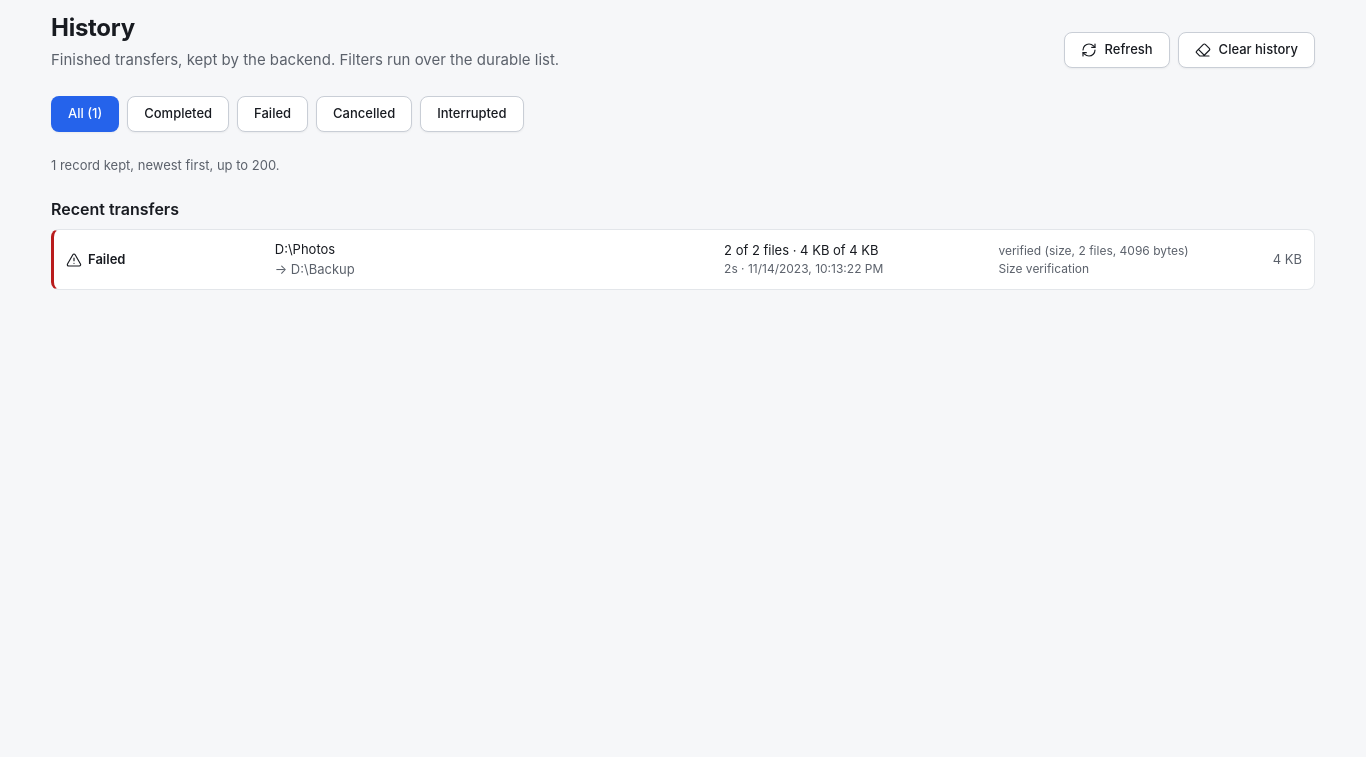
Test: HistoryPage › shows the items a failed transfer reported
The width and height of the screenshot is (1366, 757).
Click the button "Failed" at (107, 259), box [51,229,1315,290]
(page scrolled)
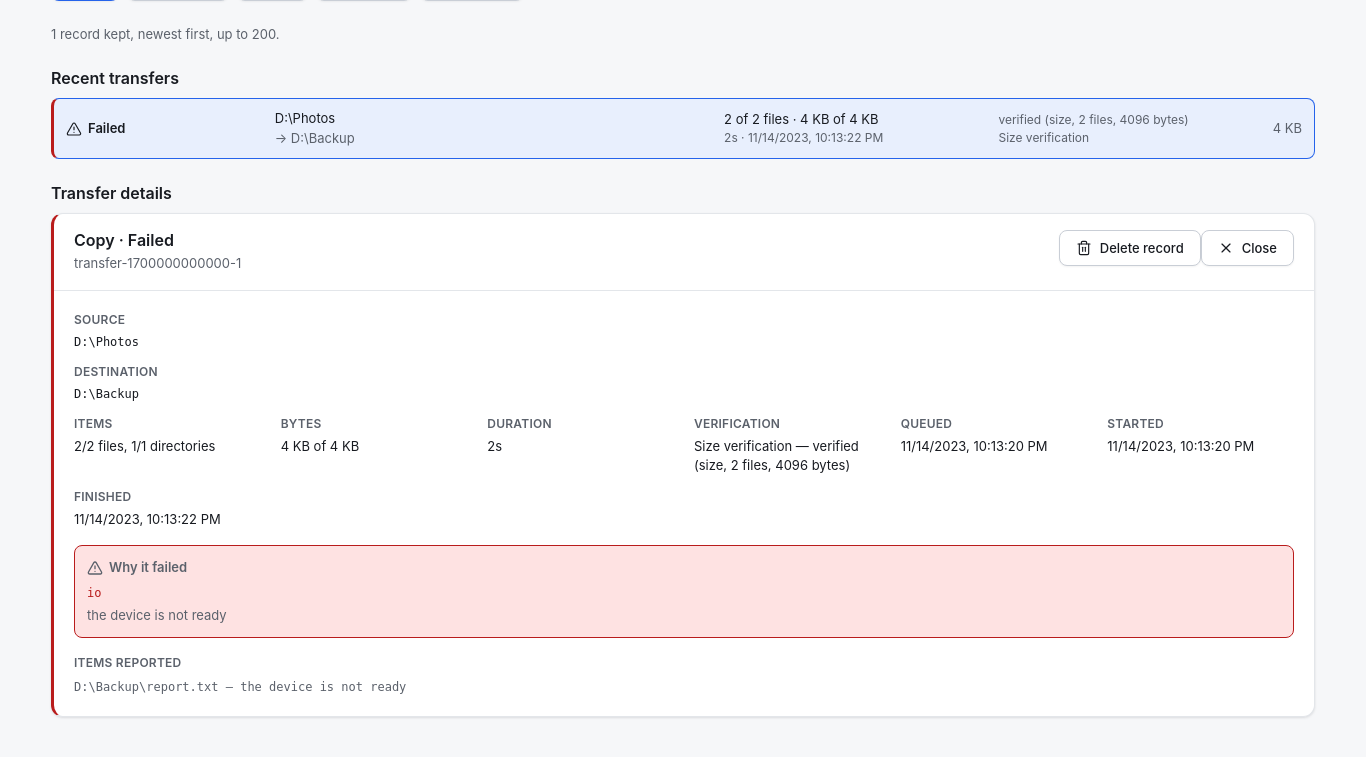
Now the text "Items reported" is shown, box [74,655,182,670]
Now the list item "D:\\Backup\\report.txt — the device is not ready" is shown, box [74,680,406,694]
